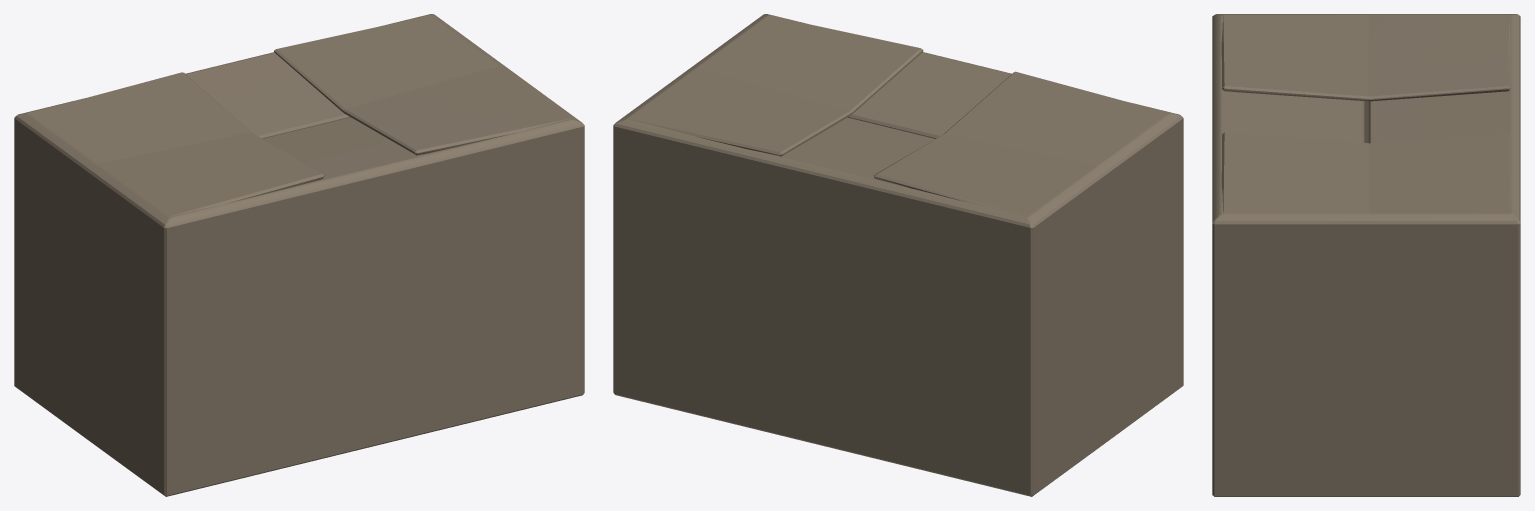
File: A4B_CloseBox.fbx
3 views of the same model, side by side, from view 1: azimuth 30°, elevation 25°; view 2: azimuth 150°, elevation 25°; view 3: azimuth 270°, elevation 25° (orthographic).
Visible parts, largest first — view 1: pCube5; view 2: pCube5; view 3: pCube5.
Boxes of the visible parts, box(x1,y1,x2,y2) form: pCube5: box(14, 14, 584, 496); pCube5: box(613, 14, 1183, 496); pCube5: box(1212, 14, 1520, 496).
Size of the model in its own units: 1.6 by 1.02 by 1.
